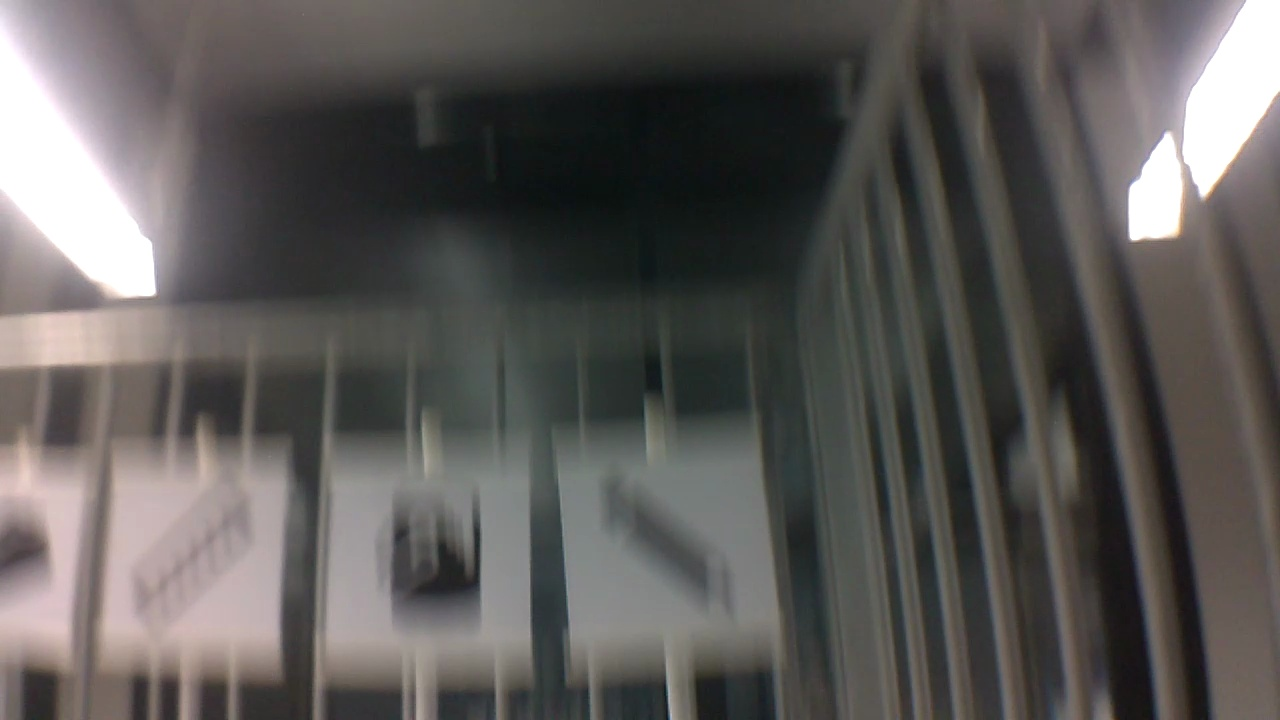bucket: (379, 477, 480, 622)
pencil: (594, 452, 742, 612)
ruler: (112, 476, 261, 621)
taco: (0, 488, 62, 584)
